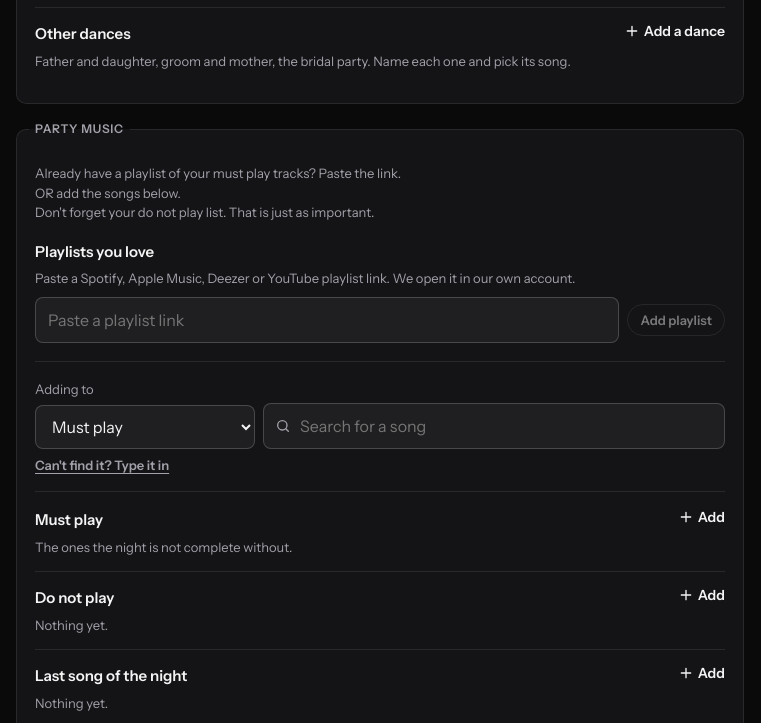
Test: a search response that arrives after the text changed is discarded
(page scrolled)
Type "slow" into the search field labelled "Search for a song" at (494, 426), box [263,403,725,449]
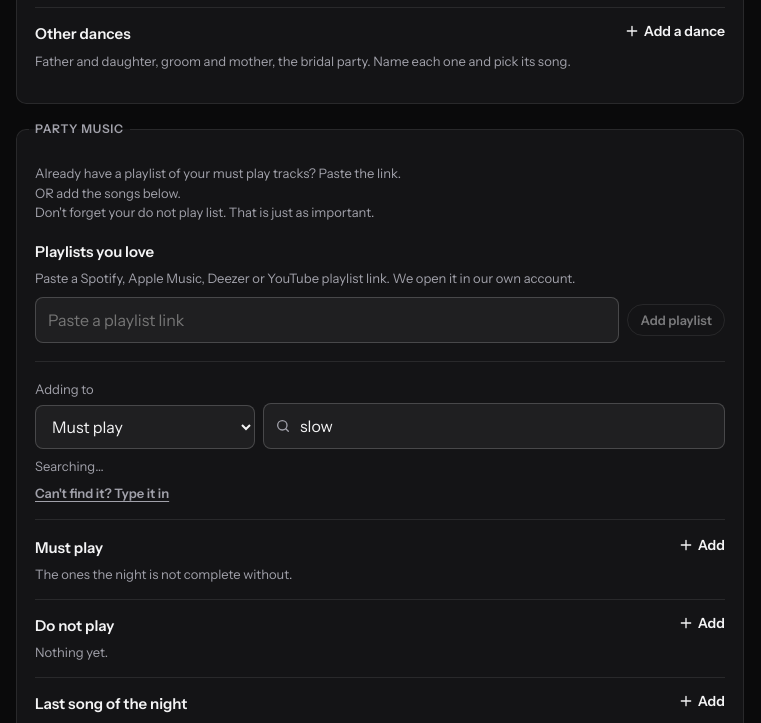
Replace the text in the search field named "Search for a song" with "bright" at (494, 426), box [263,403,725,449]
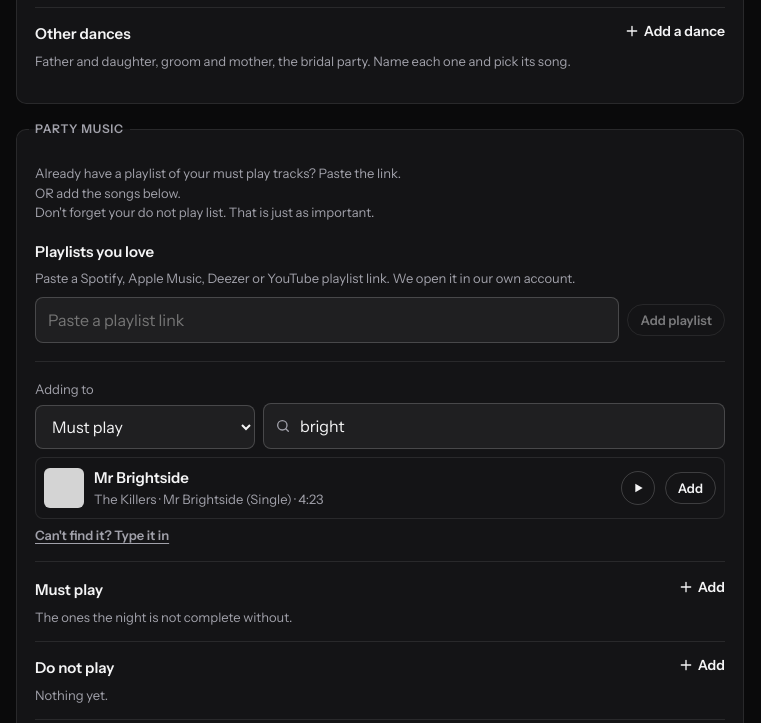
Expected: the button with aria-label "Add Mr Brightside by The Killers" is shown, [665,472,716,504]
